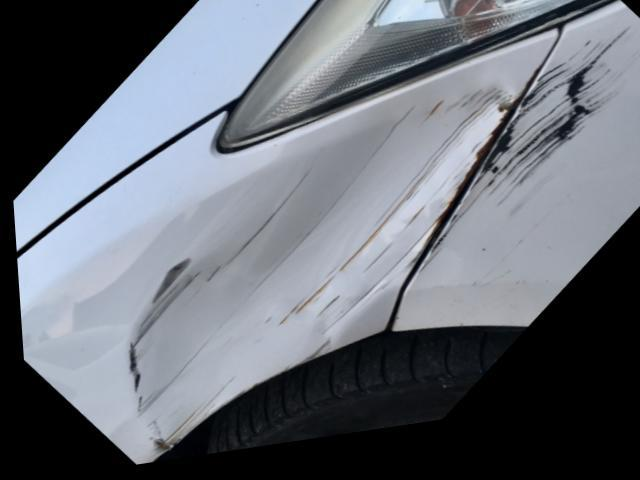dent: (118, 95, 508, 450)
scratch: (475, 42, 640, 222)
